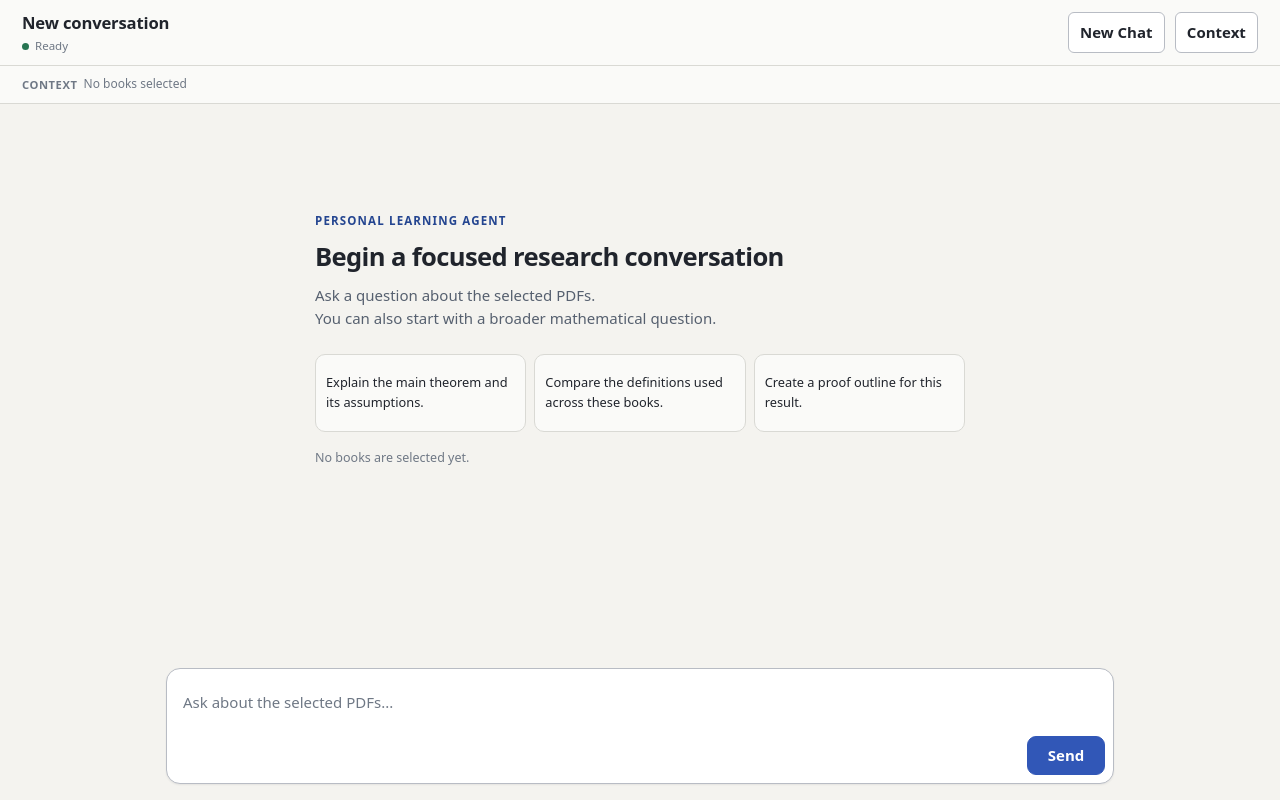
Test: Agent Chat streaming UI › keeps partial text, marks cancellation, and unlocks the next turn
The width and height of the screenshot is (1280, 800).
Type "Question" into the text box with placeholder "Ask about the selected PDFs..." at [596, 726], box [175, 683, 1017, 769]
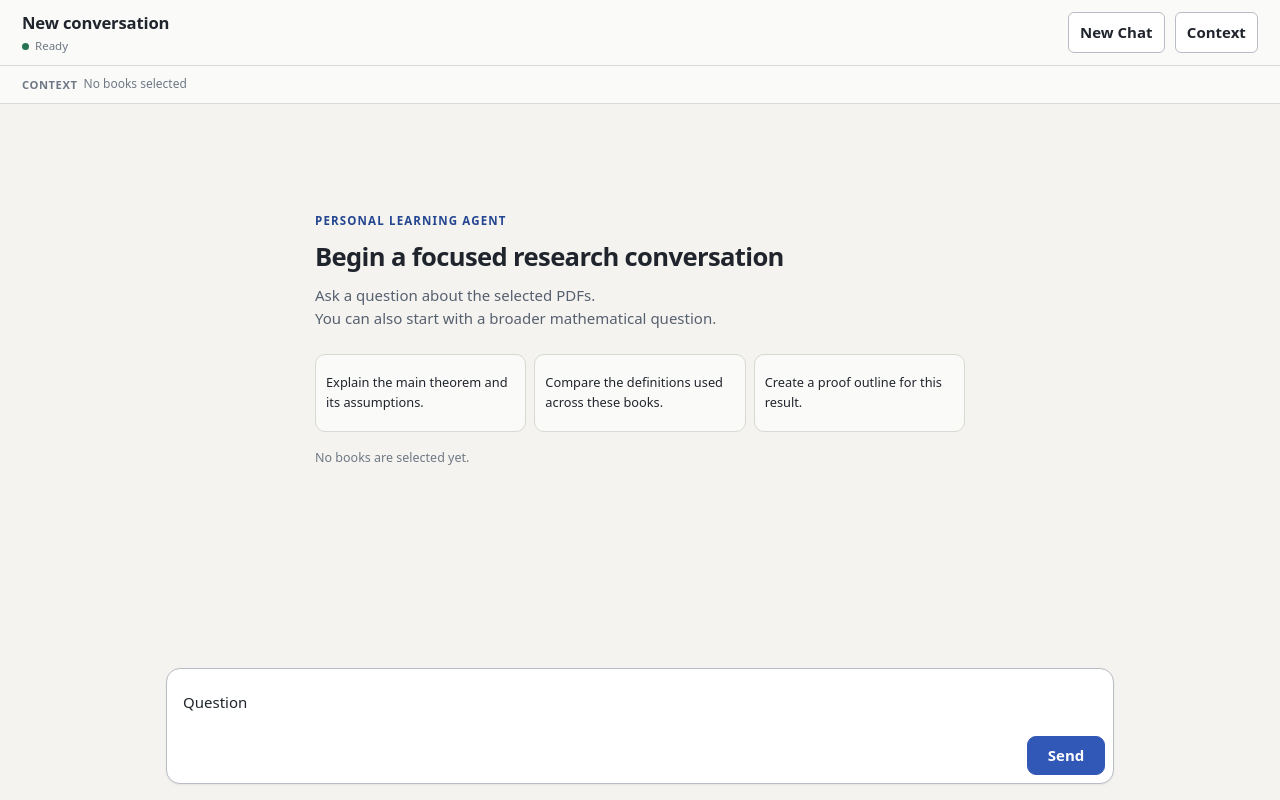
Click the button "Send" at [1066, 755], box [1027, 736, 1105, 775]
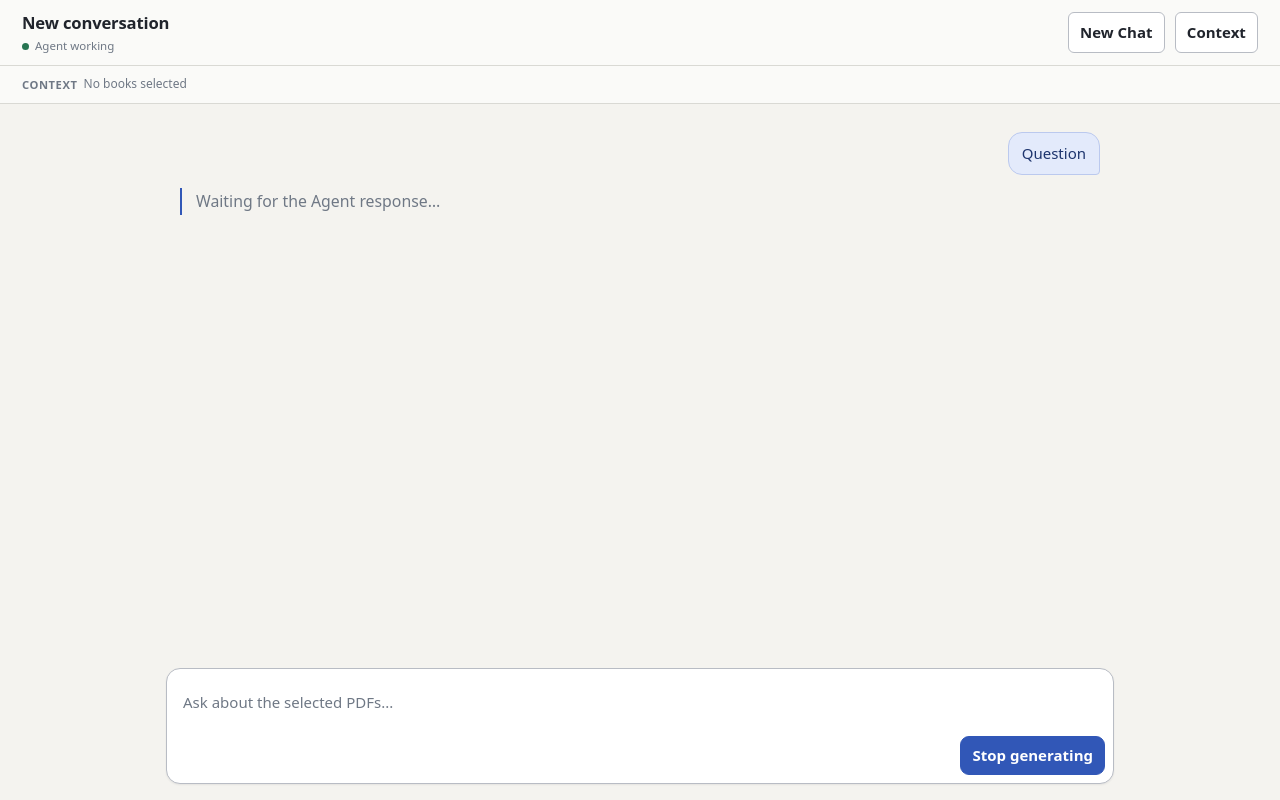
Click the button "Stop generating" at [1033, 755], box [960, 736, 1105, 775]
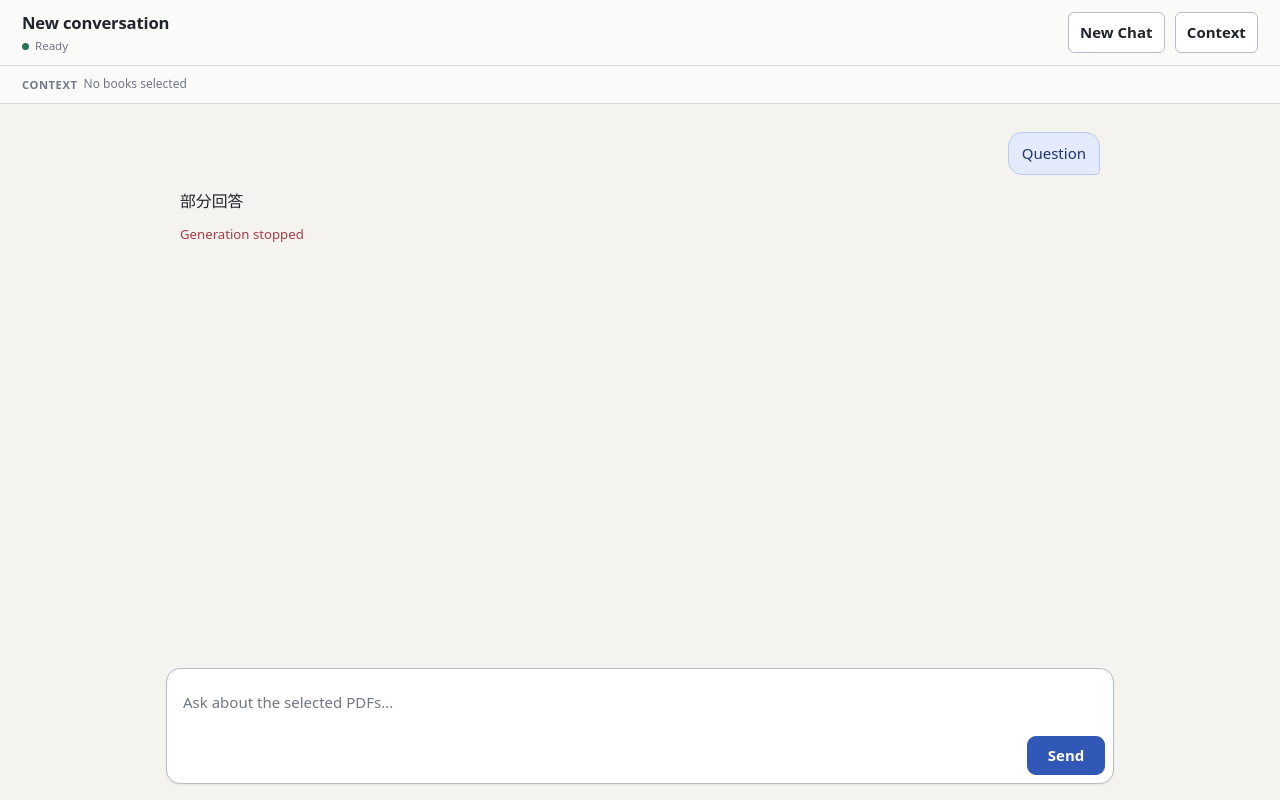
Expected: the text "部分回答" is shown, [180, 190, 243, 212]
Expected: the text "Generation stopped" is shown, [180, 225, 304, 243]
Expected: the element with class "cancelled" showing "部分回答 Generation stopped" is shown, [180, 188, 1100, 245]
